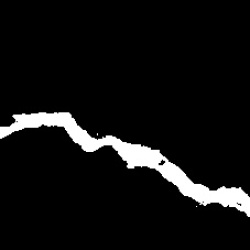crack: (2, 111, 250, 215)
